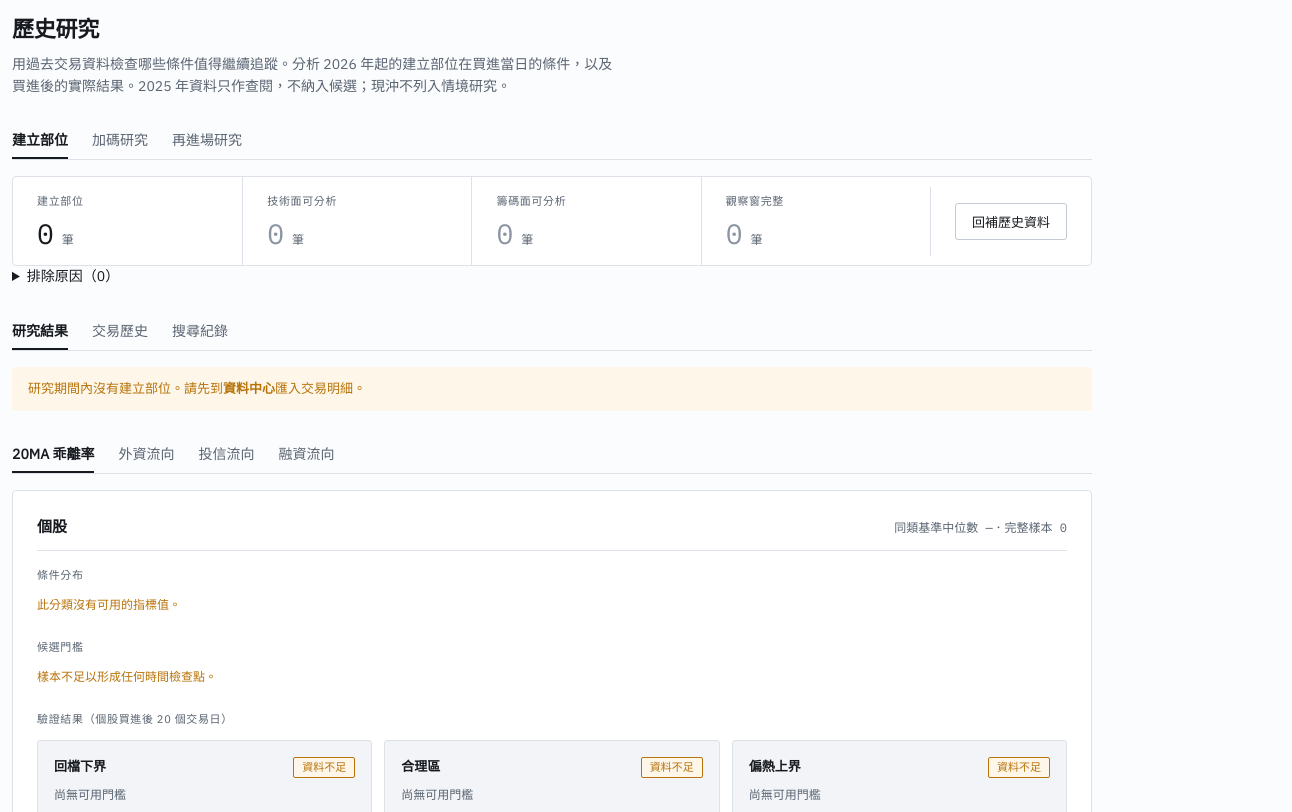
沒有資料時 › 切換再進場研究後使用再進場情境文案
Step 1. Click the tab "再進場研究" → (207, 144), box x1=172 y1=130 x2=242 y2=160
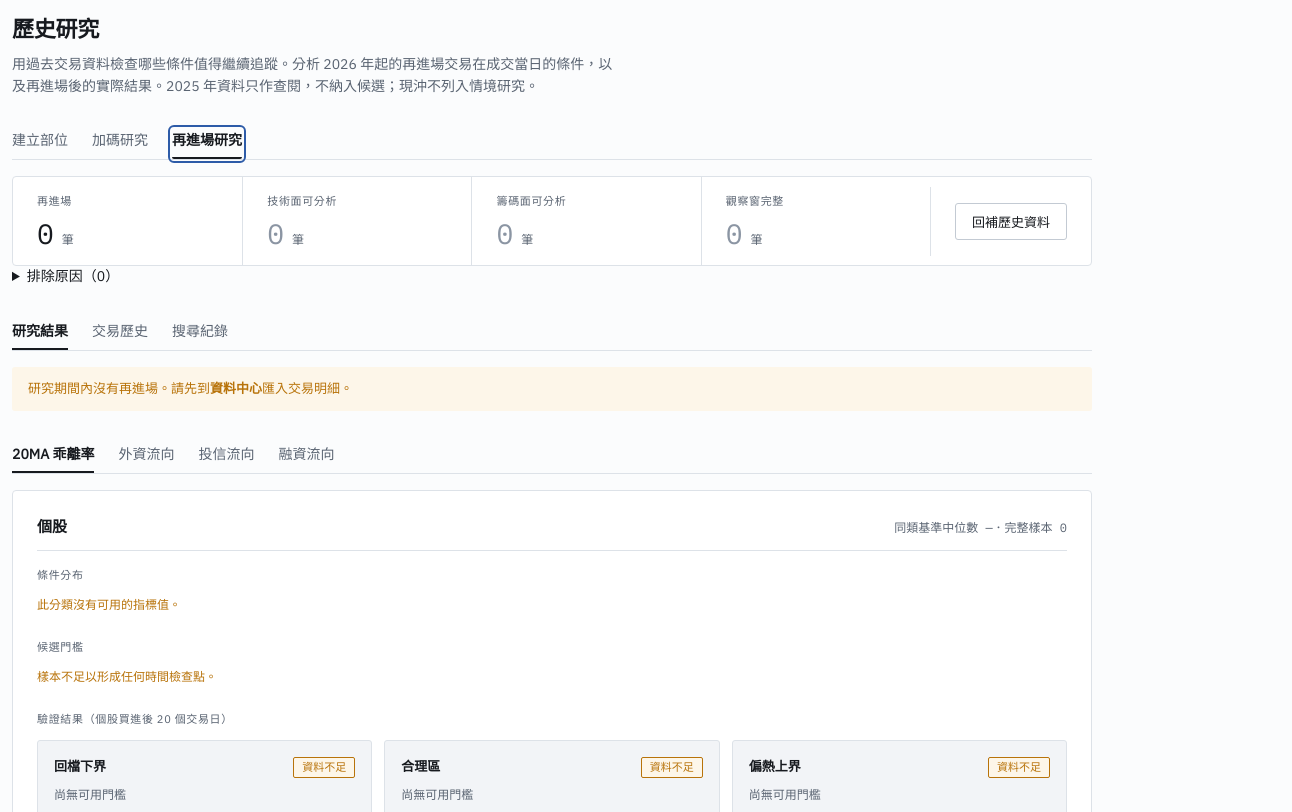
Expected: the text "再進場" is shown, x1=37 y1=194 x2=72 y2=208
Expected: the text "分析 2026 年起的再進場交易" is shown, x1=12 y1=55 x2=612 y2=95
Expected: the text "研究期間內沒有再進場" is shown, x1=28 y1=380 x2=171 y2=397
